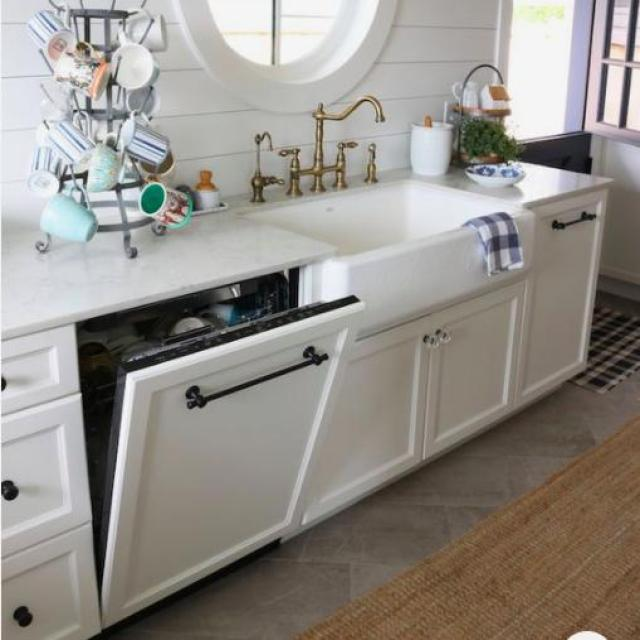dishwasher: (80, 252, 374, 638)
